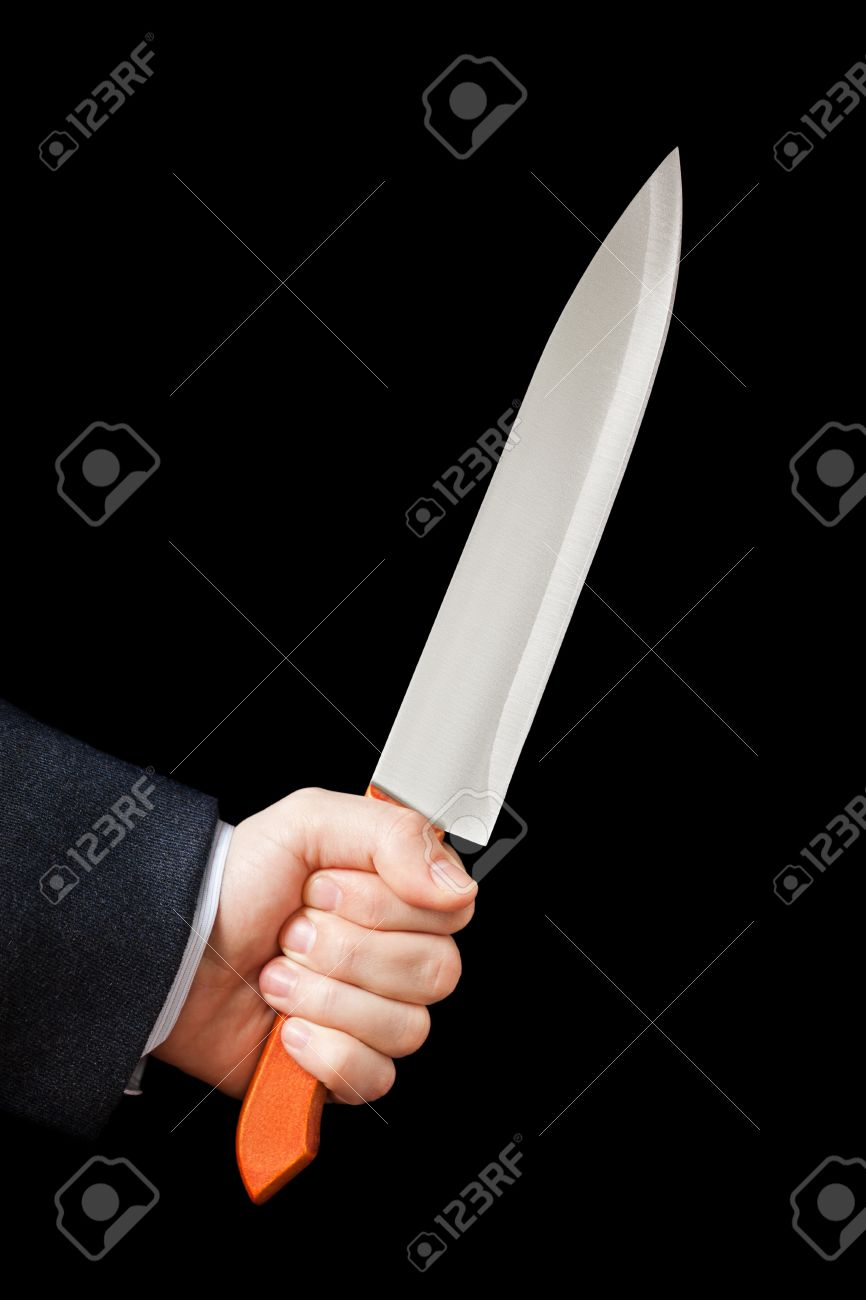knife: (237, 123, 712, 1022)
